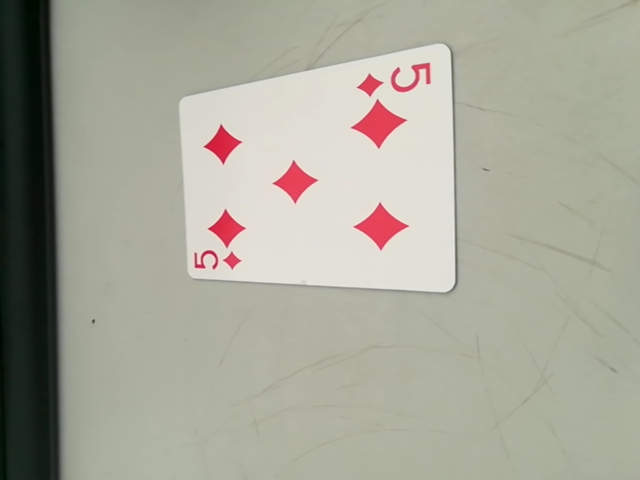fk 5: (356, 56, 435, 99), (192, 245, 246, 277)
